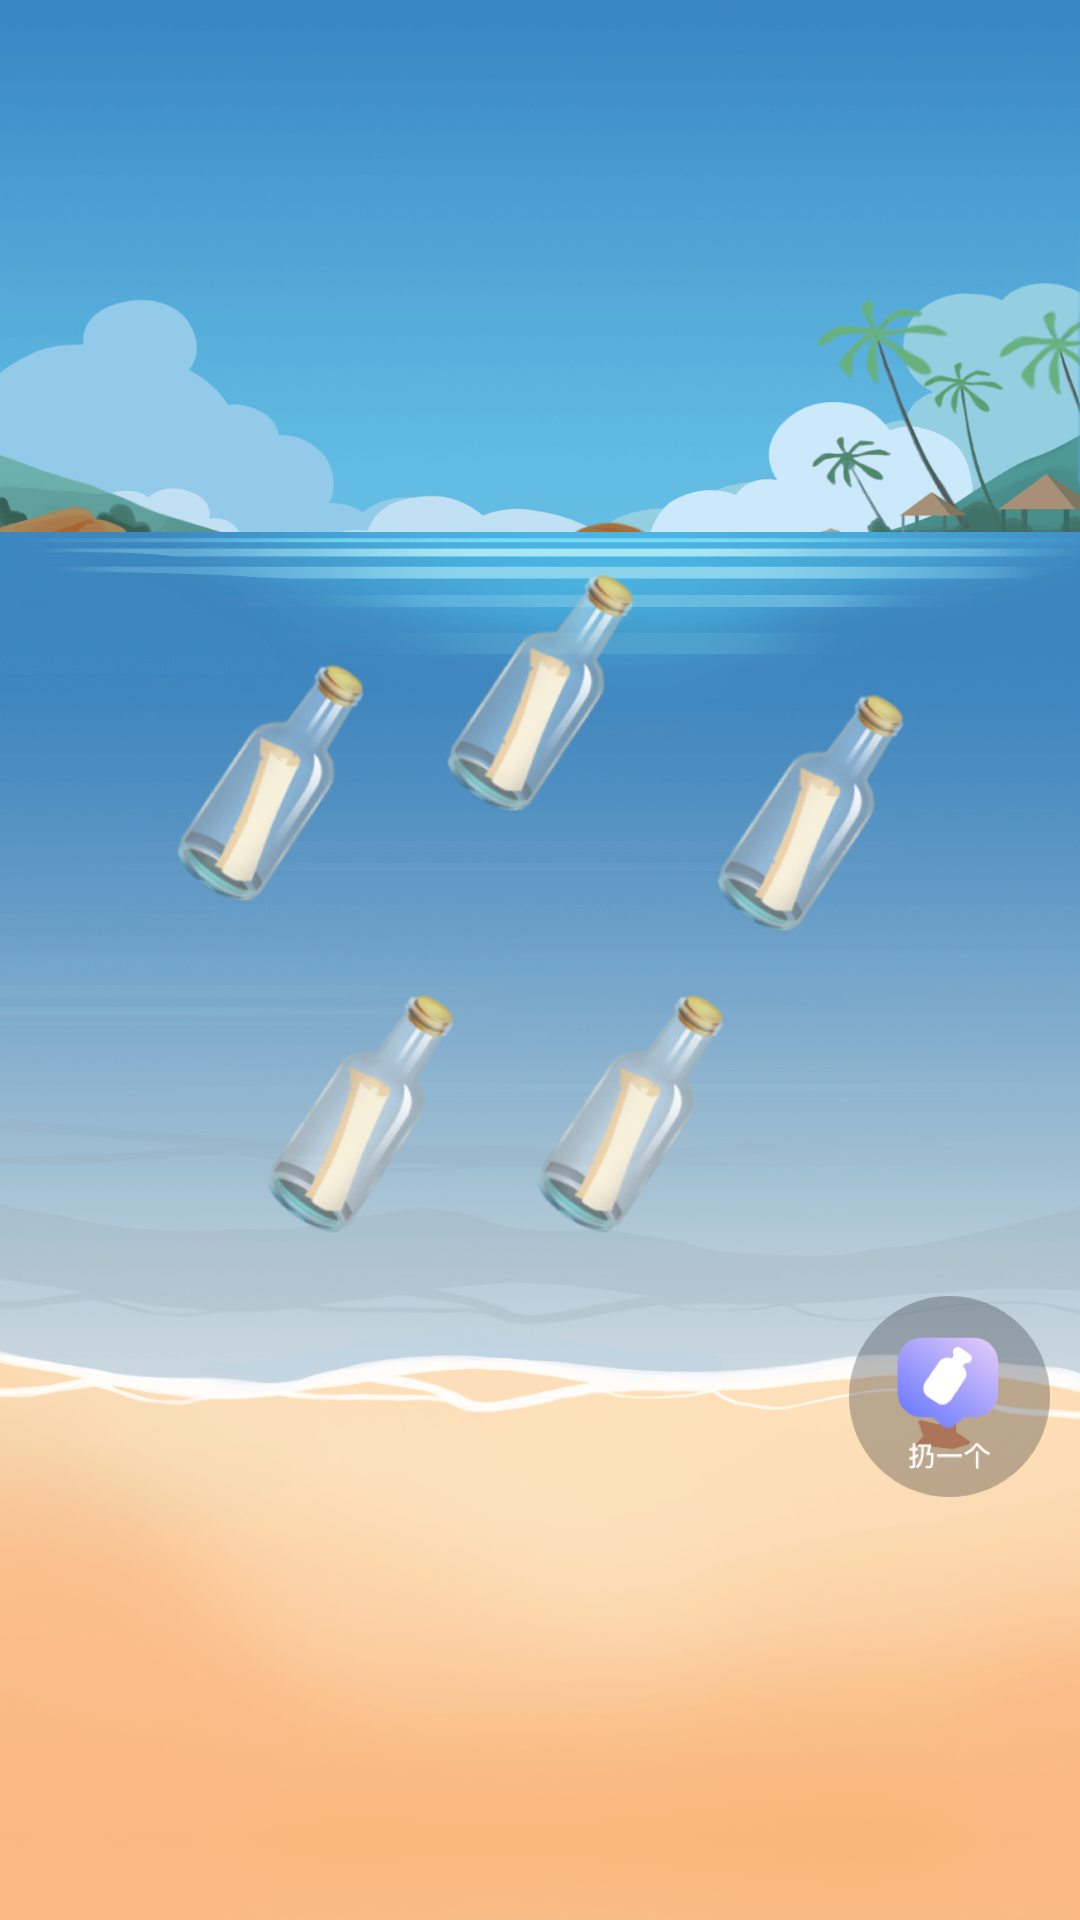

Screen size 1080px x 1920px. Icon name, then its center in pixels as (x,y):
bottle pick: (540,693), (270,784), (810,814), (360,1114), (630,1114)
